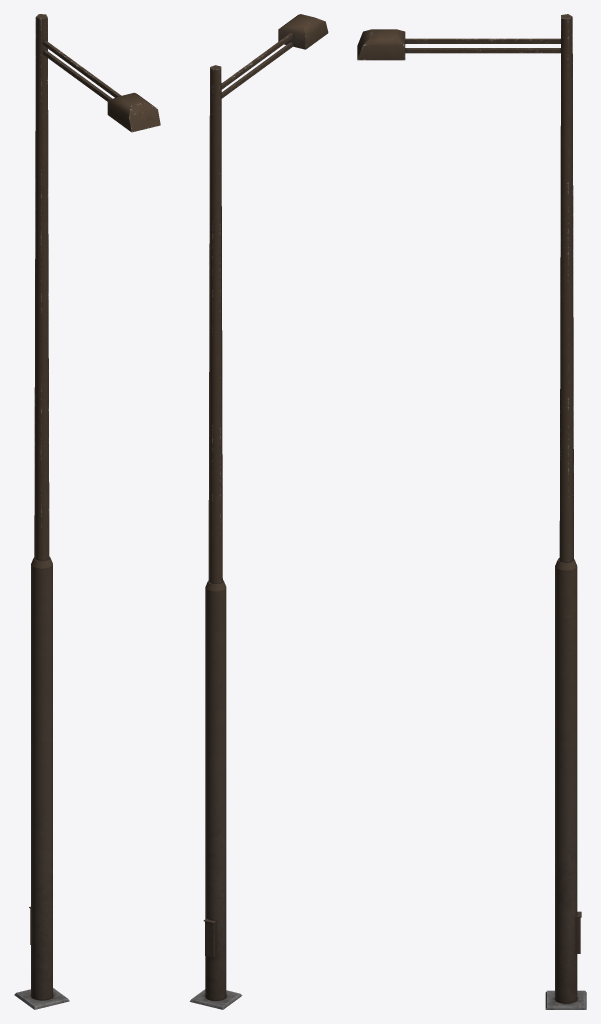
The model's file is jctStreetLightA.fbx.
3 renders of one model, left to right at view 1: azimuth 30°, elevation 25°; view 2: azimuth 150°, elevation 25°; view 3: azimuth 270°, elevation 25°, orthographic. The views are drawn at different scales.
Visible parts, largest first — view 1: jctStreetLightA; view 2: jctStreetLightA; view 3: jctStreetLightA.
Part boxes in pixels (left/top/right/bottom): jctStreetLightA: left=14, top=14, right=160, bottom=1009; jctStreetLightA: left=189, top=14, right=328, bottom=1009; jctStreetLightA: left=357, top=14, right=586, bottom=1009.
Bounding box in the file's own units: 34.08 × 903 × 191.
